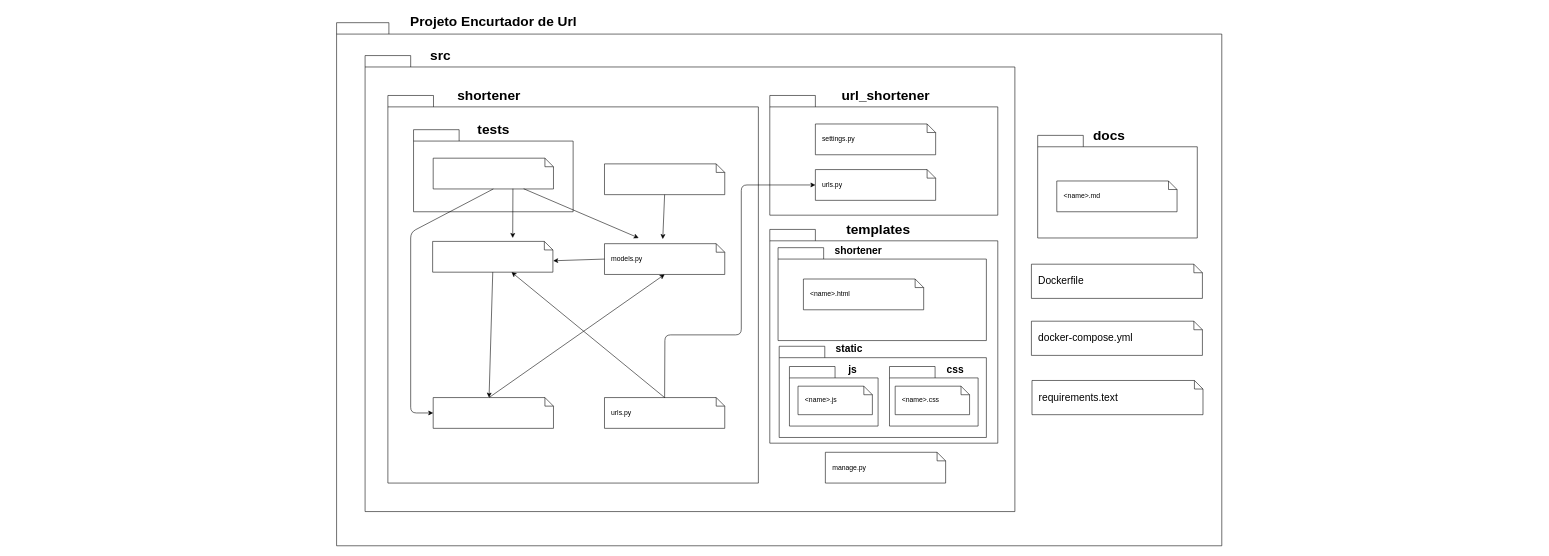
Image size: 1549x556. Some labels were removed from this diagram. The centre of each missing label's shape, as x and y in pixels:
"<name>.py" belongs at (493,173).
"admin.py" belongs at (664,179).
"forms.py" belongs at (493,412).
"views.py" belongs at (492,256).
